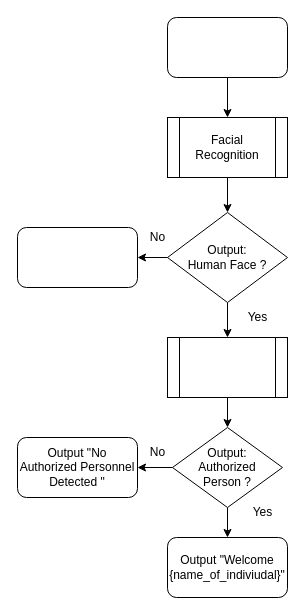
The diagram is 305 pixels wide and 615 high, and some of its shapes have lost their labels. The box of each missing label's shape, as (x1, y1, x2, y2) in pixels:
Facial Identification: (166, 336, 288, 398)
Input Image: (166, 16, 288, 78)
Output "No Face Detected": (16, 226, 138, 288)
